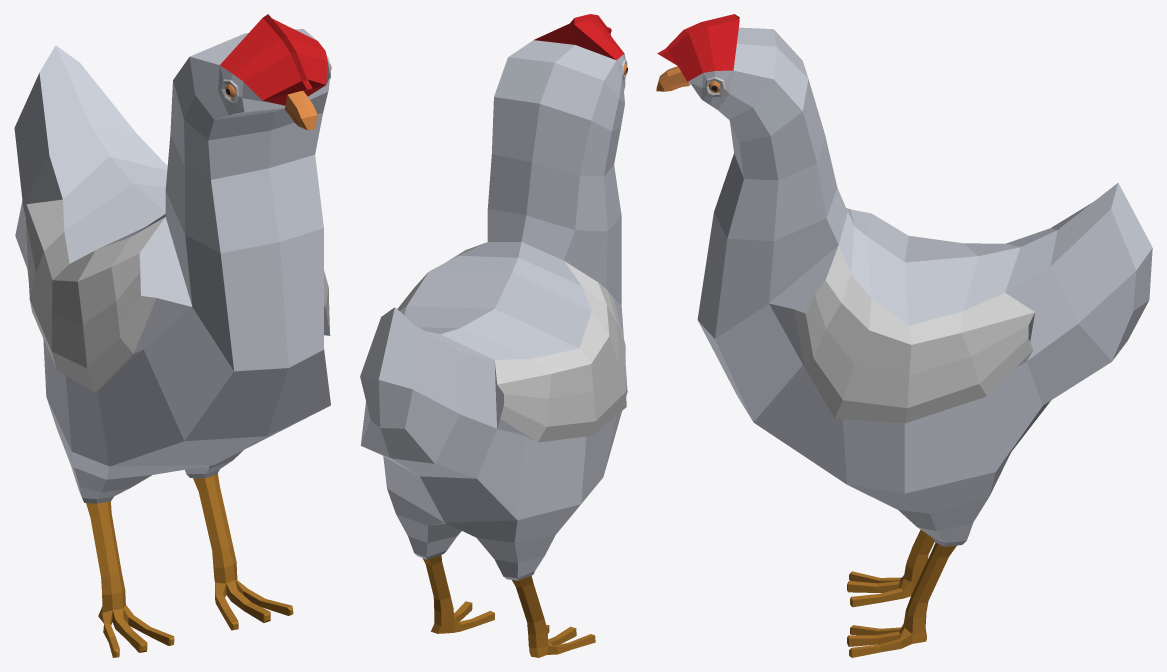
File: manok.fbx
The picture shows the model from 3 angles, left to right: view 1: azimuth 30°, elevation 25°; view 2: azimuth 150°, elevation 25°; view 3: azimuth 270°, elevation 25°; orthographic projection. The views are drawn at different scales.
Visible parts, largest first — view 1: manokDeChicken; view 2: manokDeChicken; view 3: manokDeChicken.
Boxes of the visible parts, x1,y1,x2,y2 form: manokDeChicken: [14, 14, 331, 657]; manokDeChicken: [360, 14, 627, 657]; manokDeChicken: [656, 14, 1152, 657].
Size of the model in its own units: 0.1504 by 0.3987 by 0.296.
